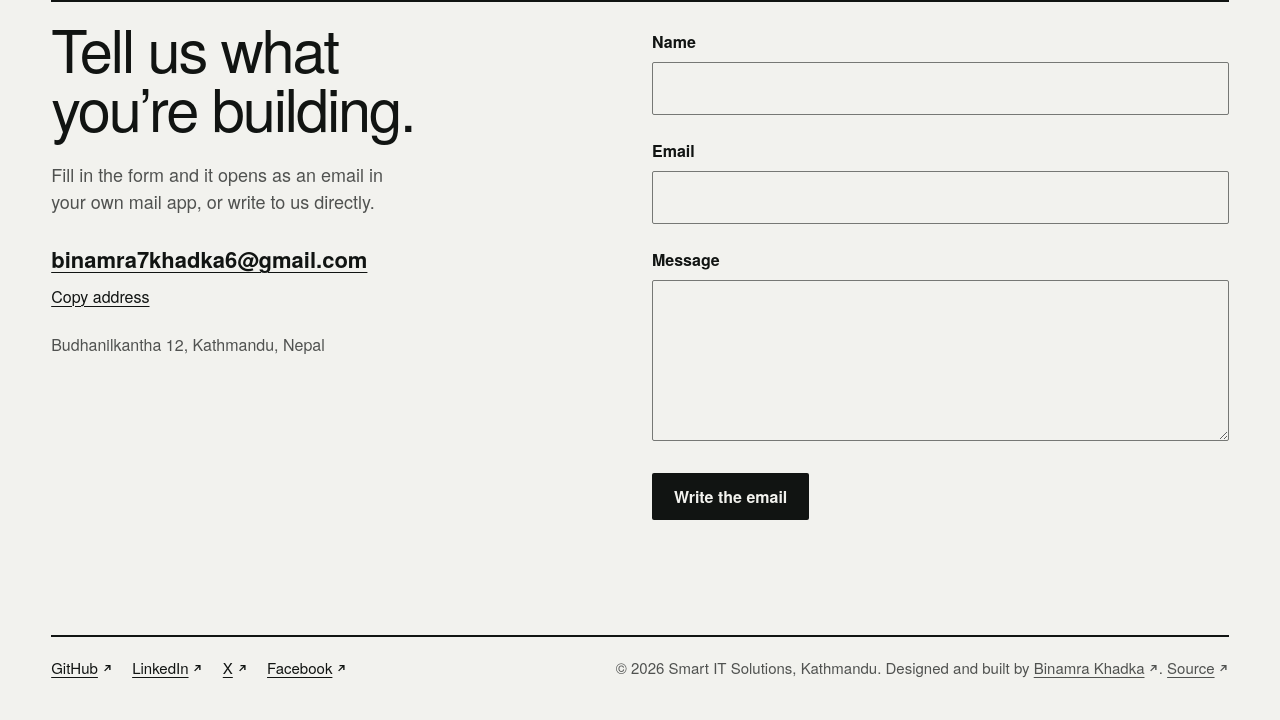
Test: App › shows field errors instead of sending an incomplete enquiry
The image size is (1280, 720).
(page scrolled)
What coordinates should you click on to do the following:
click the button "Write the email"
I would click on:
 (731, 496)
Its box is x1=652 y1=473 x2=809 y2=520.
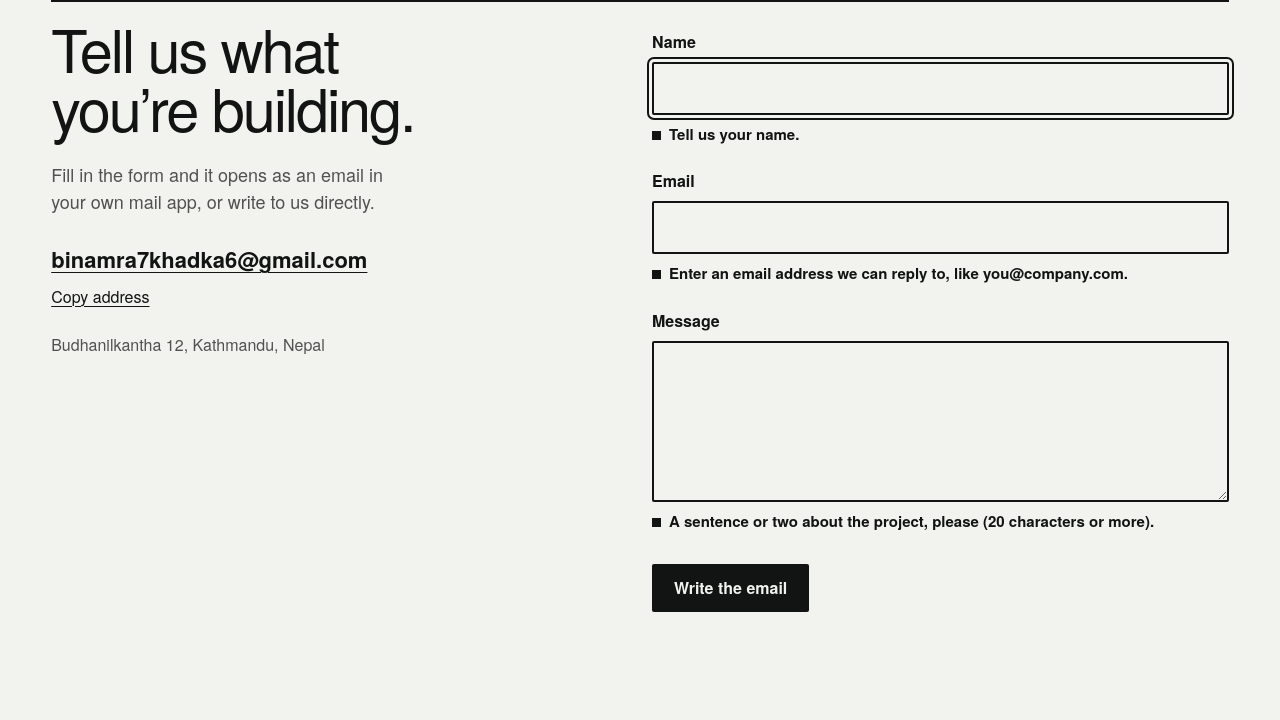
Expected: the text "Tell us your name." is shown, x1=669 y1=123 x2=799 y2=145
